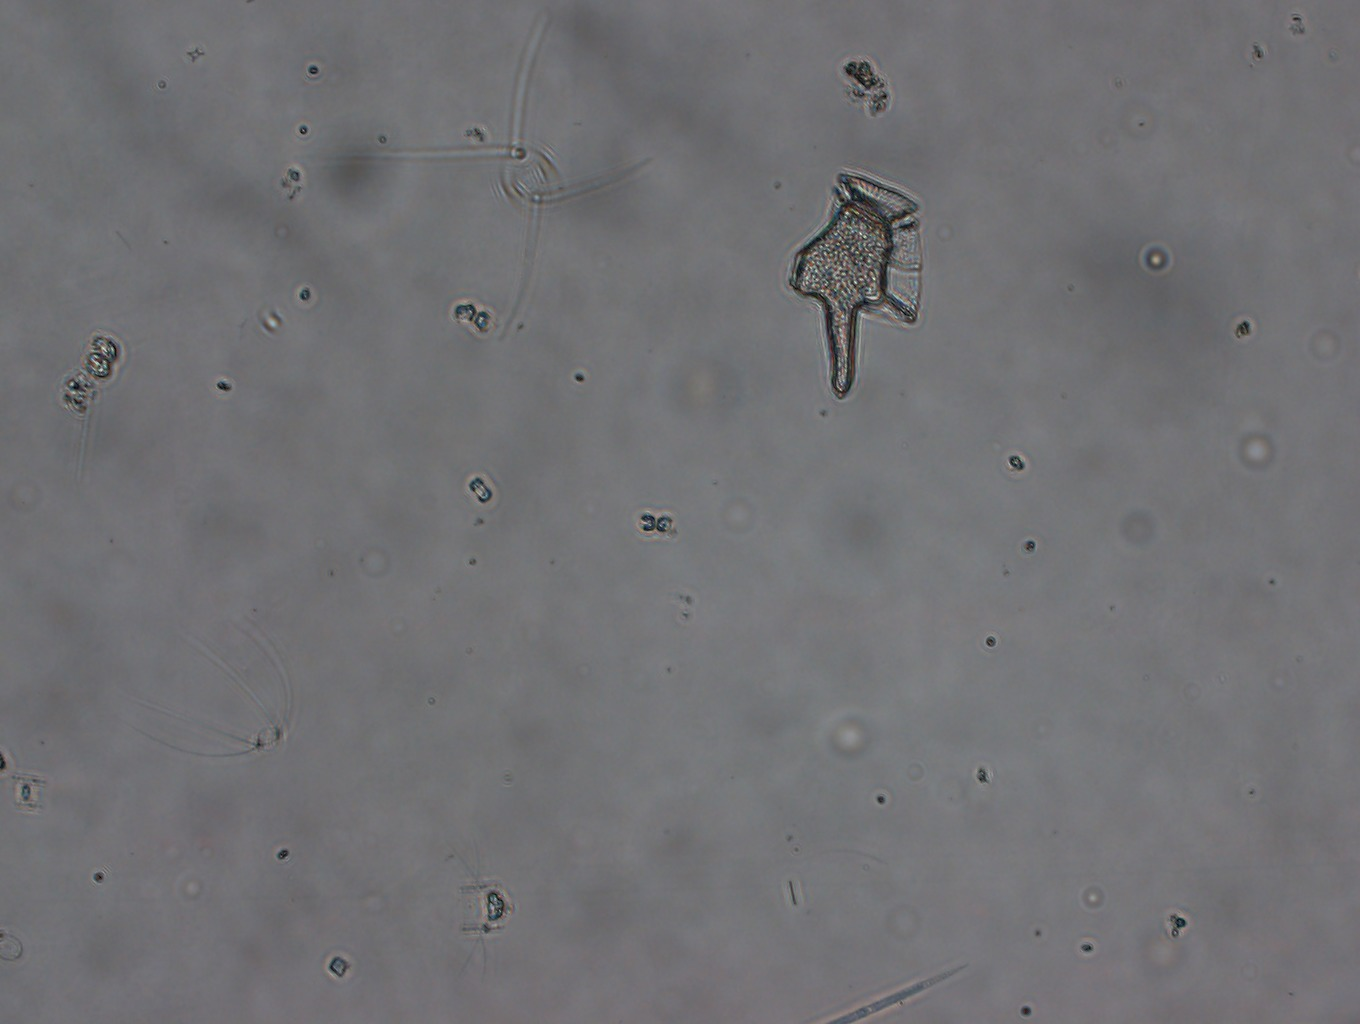chaetoceros: (356, 17, 662, 342), (135, 606, 294, 760), (433, 824, 514, 986)
dinophysis caudata: (786, 168, 924, 402)
skeletonema: (58, 328, 128, 417)
